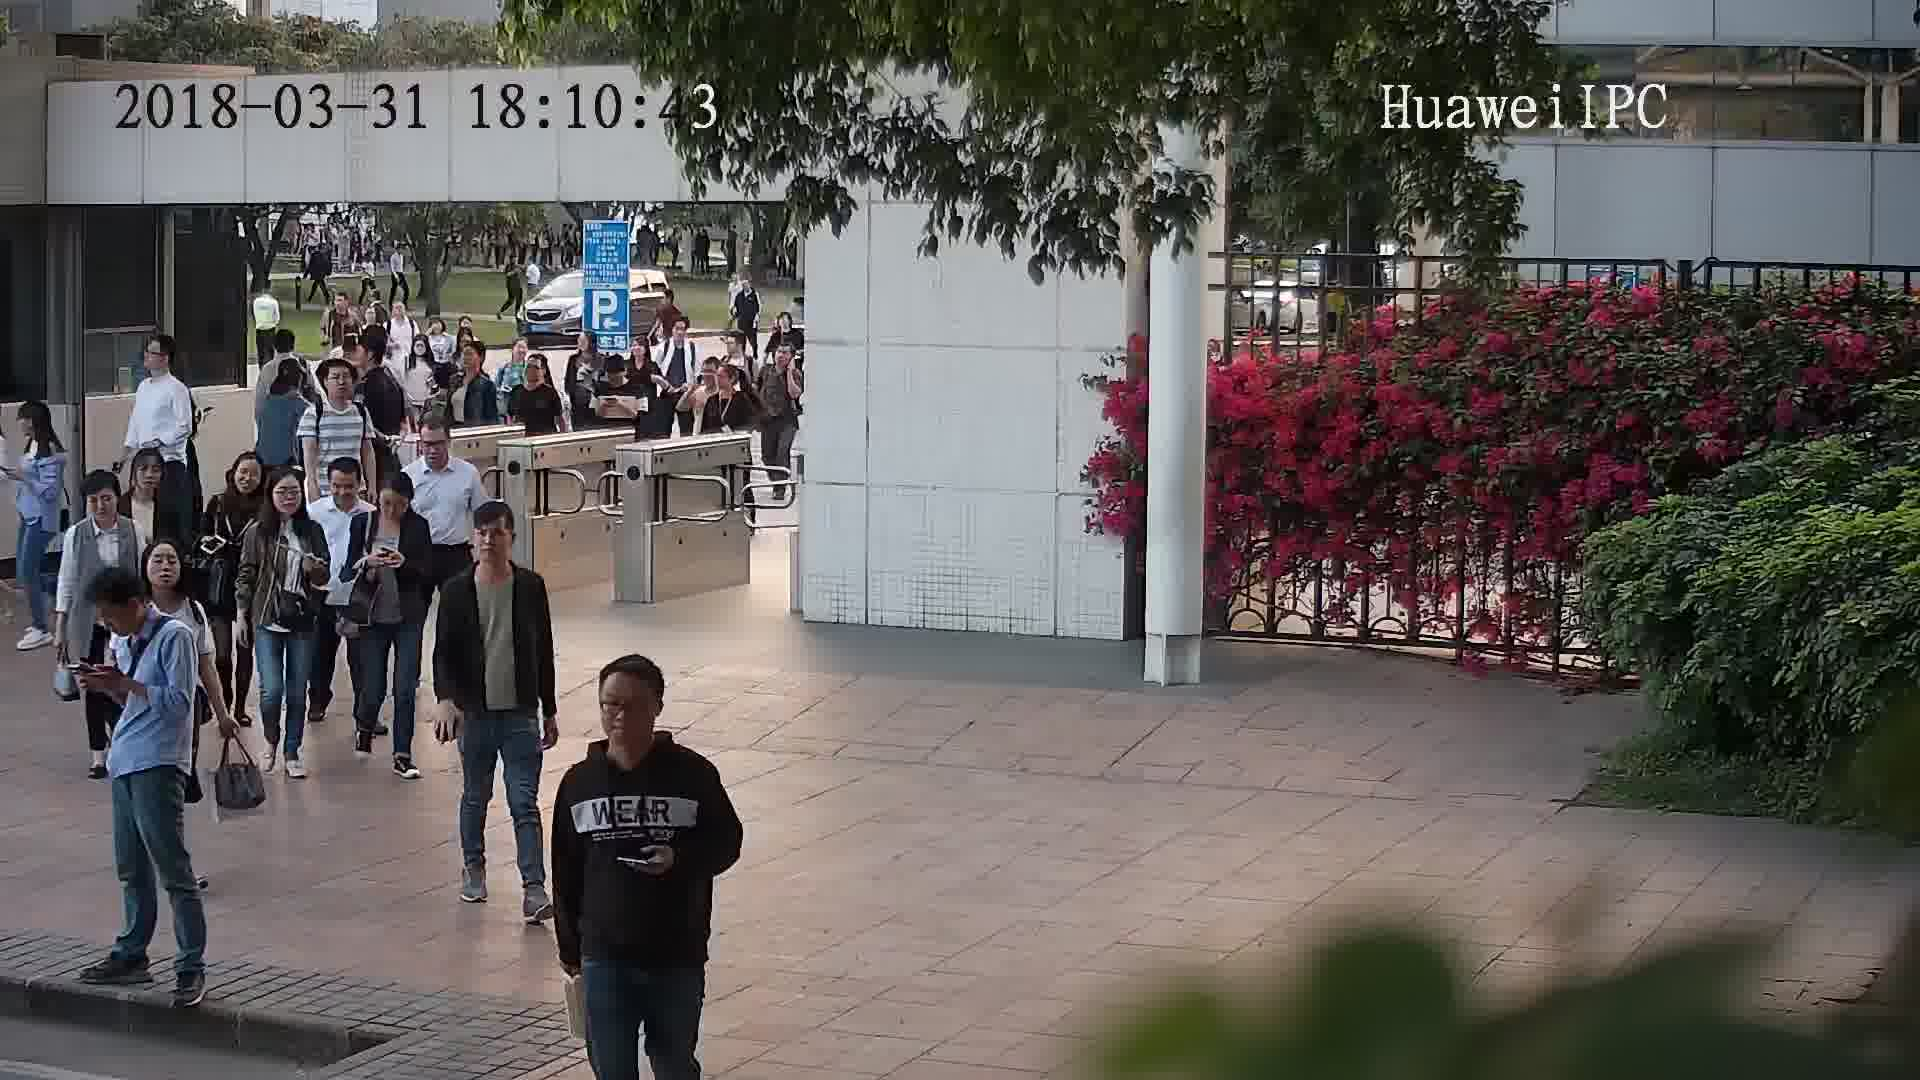face: (591, 676, 661, 745), (470, 513, 515, 573)
person: (563, 652, 710, 794), (443, 494, 542, 607), (90, 565, 186, 665), (70, 463, 142, 553), (141, 530, 208, 626), (245, 464, 325, 545), (405, 409, 477, 489), (355, 467, 428, 543), (129, 329, 196, 409), (308, 354, 370, 424), (121, 442, 178, 520), (316, 454, 374, 526), (17, 394, 73, 469), (212, 447, 269, 517), (259, 356, 311, 416), (357, 328, 404, 390), (513, 354, 563, 406), (454, 340, 498, 398), (259, 325, 309, 374), (701, 360, 747, 409), (425, 357, 466, 410), (592, 352, 635, 398), (755, 335, 798, 382), (403, 330, 440, 383), (385, 278, 420, 334), (619, 335, 659, 381), (720, 324, 760, 370), (570, 325, 607, 373), (498, 333, 535, 383), (658, 311, 695, 357), (425, 312, 460, 347), (328, 286, 357, 326), (733, 268, 759, 299)
